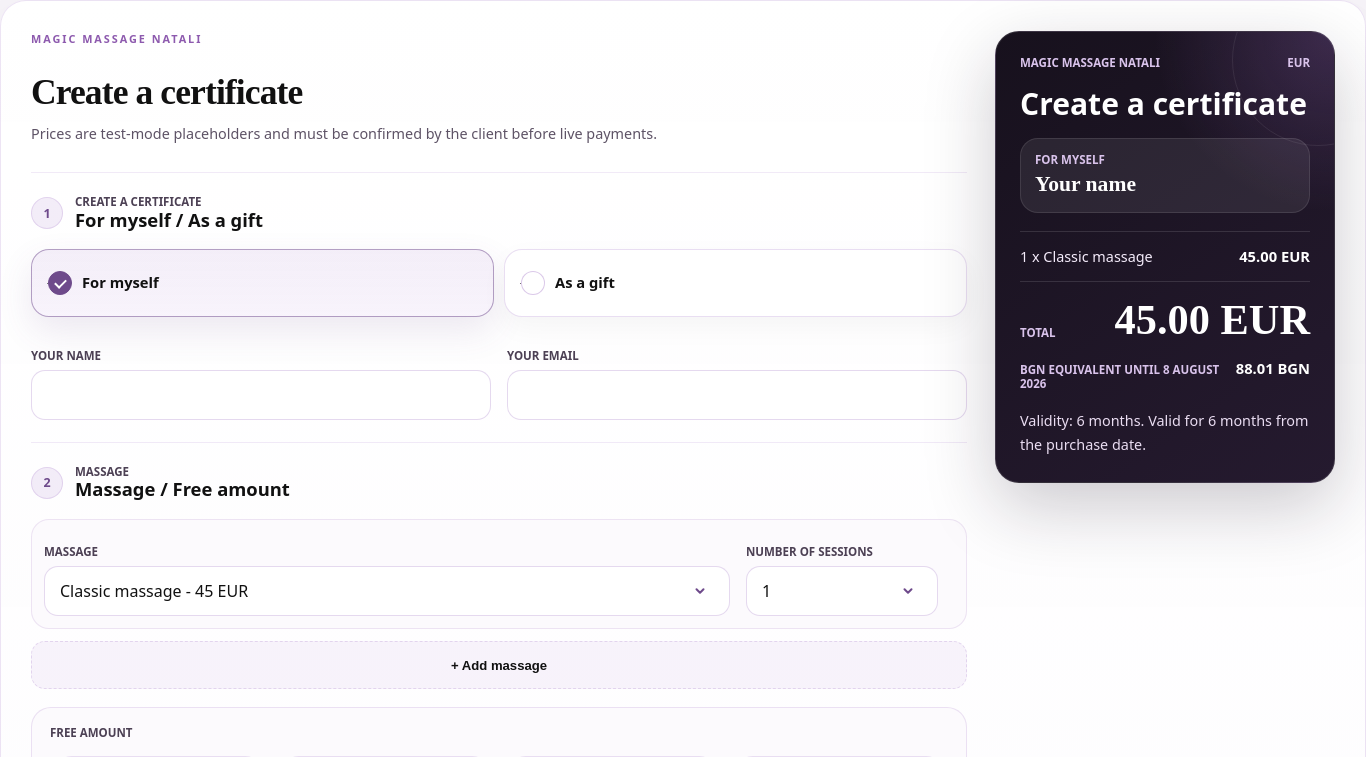
it: GiftCertificateForm › adds and removes massage certificate positions
expect the number of dropdowns labelled "Massage" is 1: met, box [44,566,730,616]
expect the button "Remove" is not shown: met
Click the button "+ Add massage" at (499, 665), box [31,641,967,689]
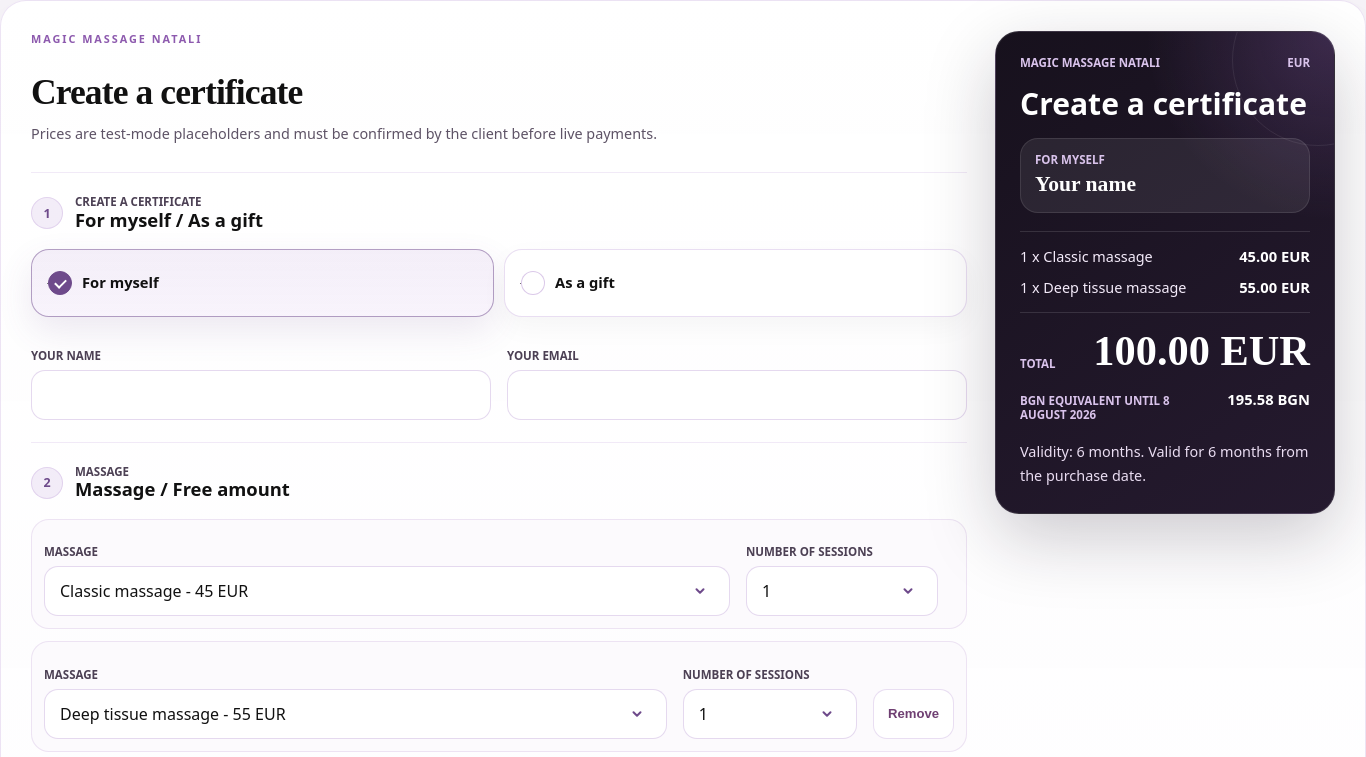
expect the number of dropdowns labelled "Massage" is 2: met, box [44,566,730,616]; [44,689,667,739]
expect the number of buttons "Remove" is 1: met
Click the button "Remove" at (914, 714), box [873,689,954,739]
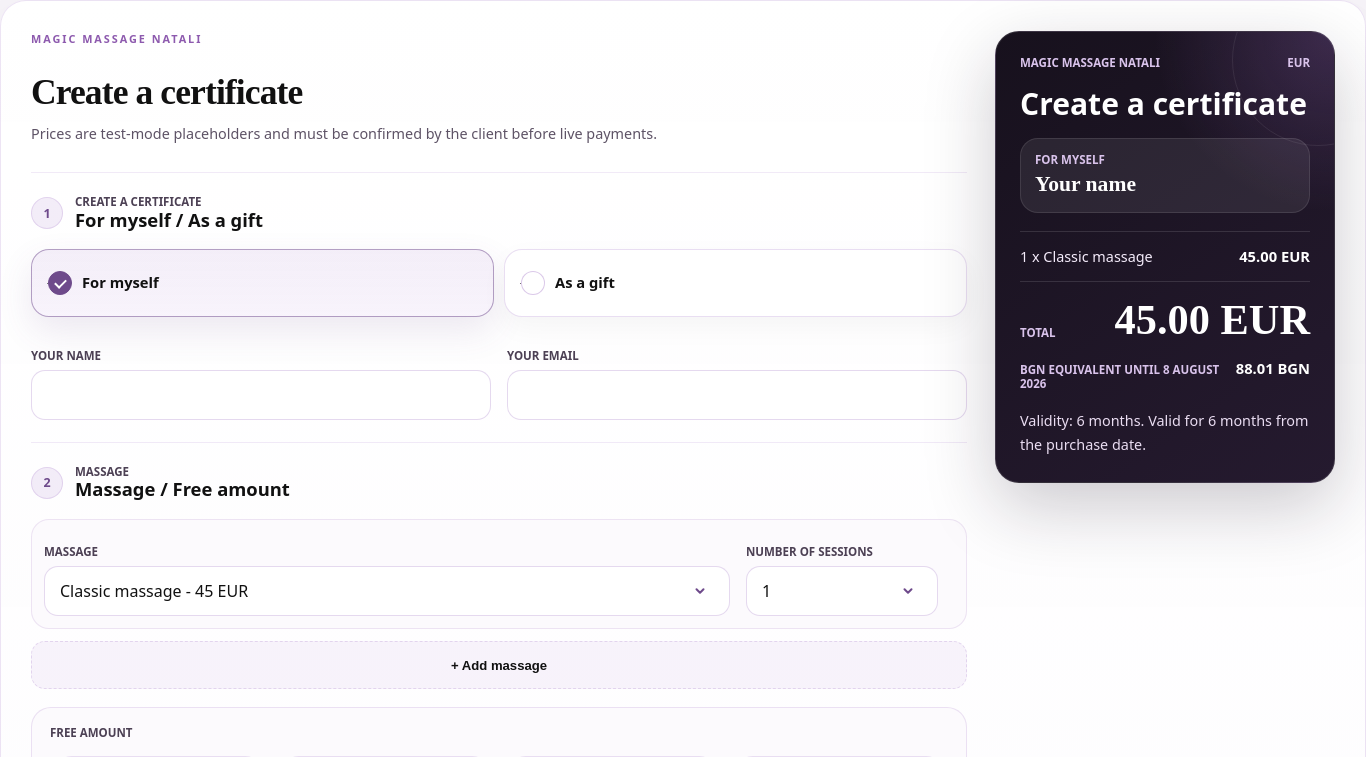
expect the number of dropdowns labelled "Massage" is 1: met, box [44,566,730,616]
